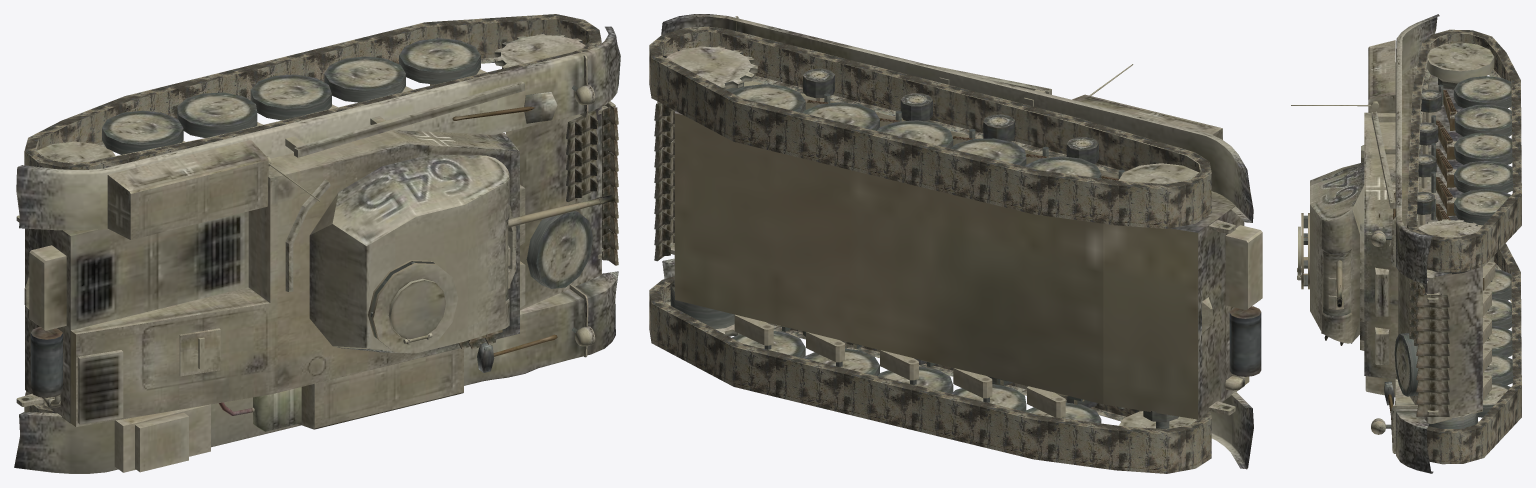
File: vehicle_panzer_ii.glb
3 renders of one model, left to right at view 1: azimuth 30°, elevation 25°; view 2: azimuth 150°, elevation 25°; view 3: azimuth 270°, elevation 25°, orthographic. The views are drawn at different scales.
Size of the model in its own units: 239 by 115 by 103.
2 materials, 2 textured.
